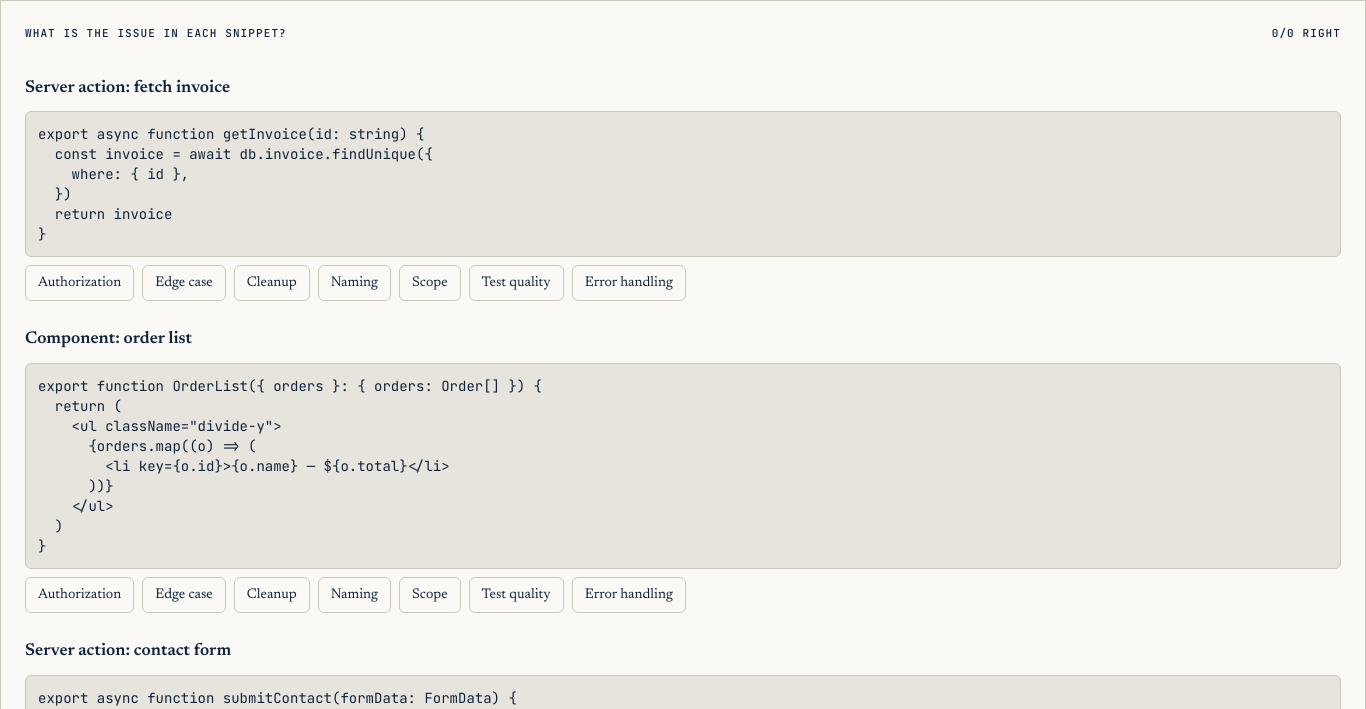
ReviewDrill › correct answer shows green verdict and increments score
The width and height of the screenshot is (1366, 709).
Click the radio button labelled "Authorization" below "Server action: fetch invoice" at point(80, 283), box [25, 265, 134, 301]
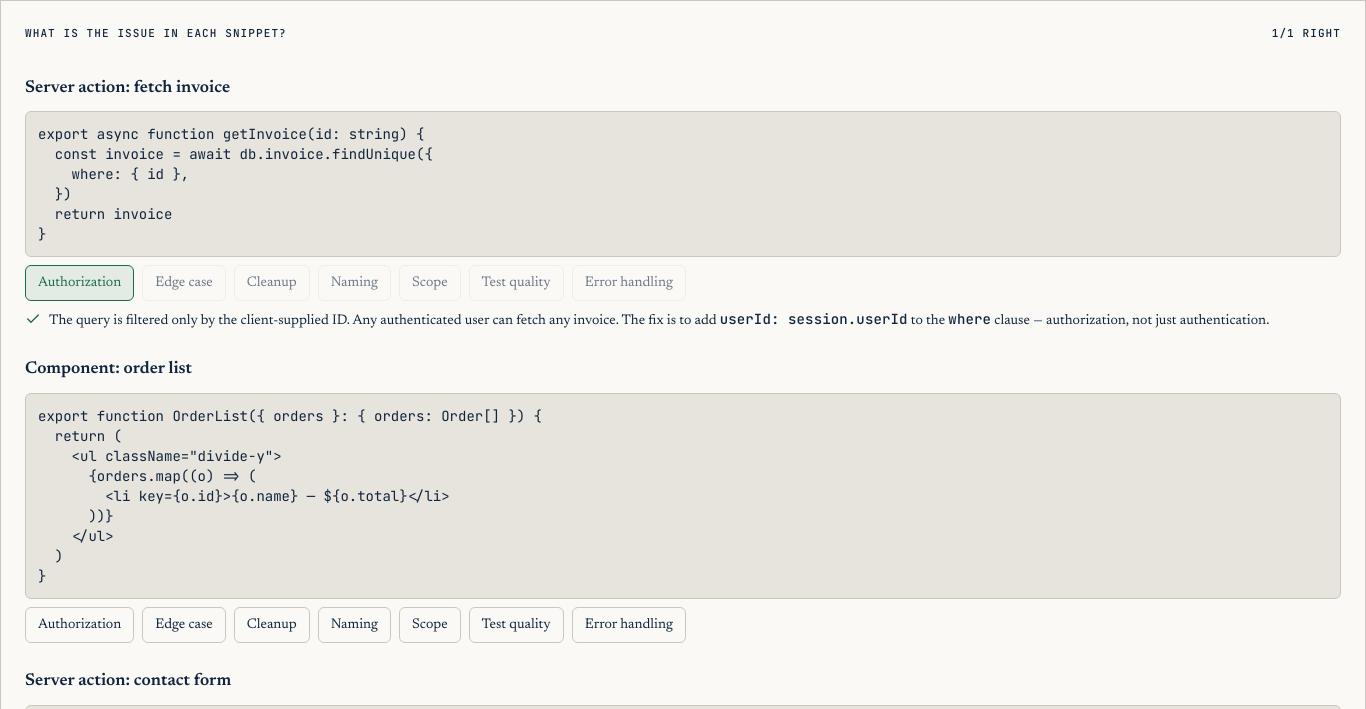
Check: the text "1/1 right" is shown, box [1272, 25, 1341, 42]
